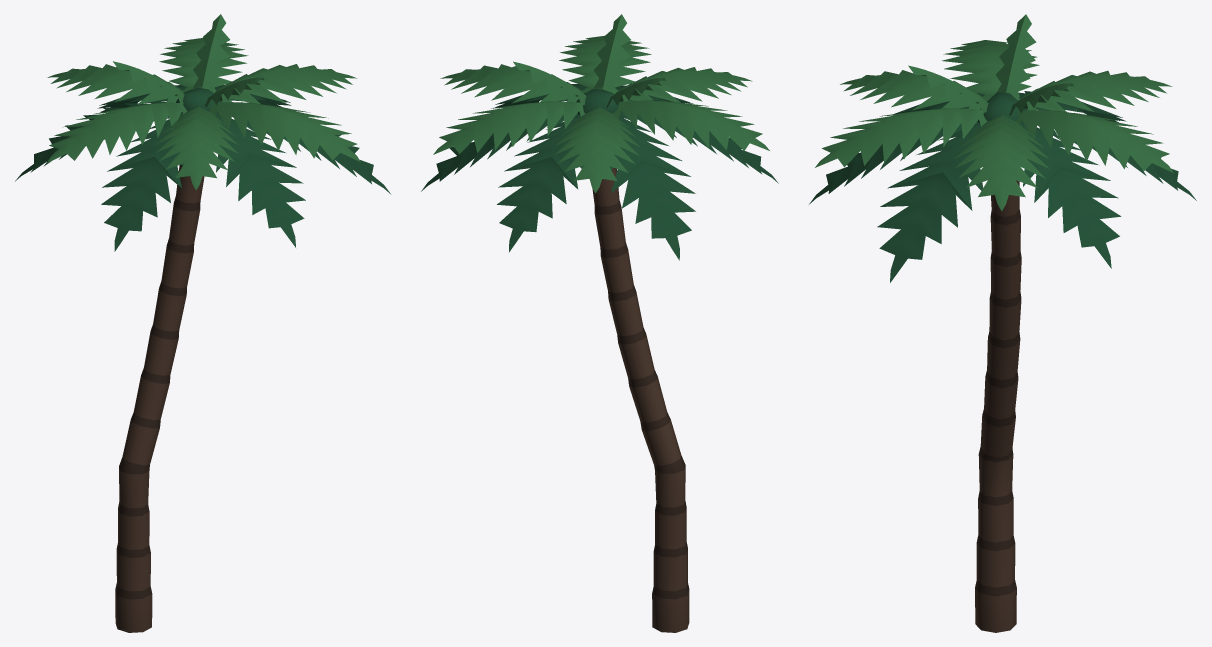
Rendered from palm_a.glb.
3 views of the same model, side by side, from view 1: azimuth 30°, elevation 25°; view 2: azimuth 150°, elevation 25°; view 3: azimuth 270°, elevation 25° (orthographic). The views are drawn at different scales.
Visible parts, largest first — view 1: body; view 2: body; view 3: body.
Part boxes in pixels (left/top/right/bottom): body: left=15, top=14, right=391, bottom=632; body: left=421, top=14, right=778, bottom=632; body: left=809, top=14, right=1196, bottom=632.
Bounding box in the file's own units: 5.19 × 8.6 × 5.01.
